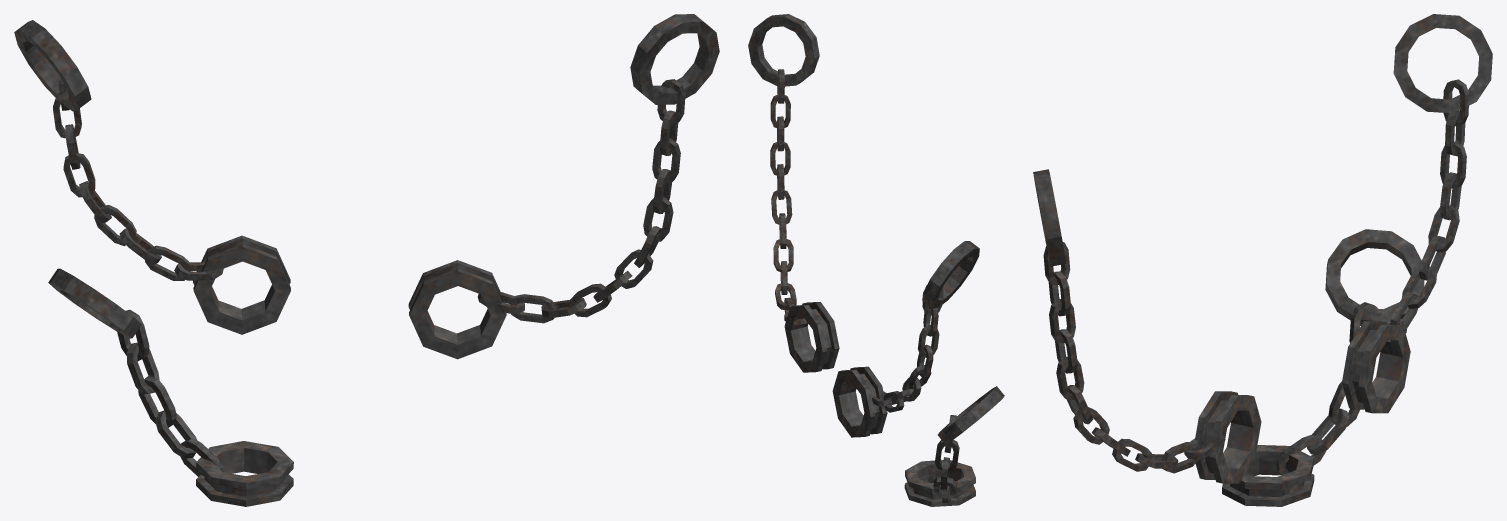
The model's file is Chains.fbx.
The picture shows the model from 3 angles, left to right: view 1: azimuth 30°, elevation 25°; view 2: azimuth 150°, elevation 25°; view 3: azimuth 270°, elevation 25°; orthographic projection. The views are drawn at different scales.
Visible parts, largest first — view 1: Cylinder.031, Cylinder.002, Cylinder.003, Cylinder.030, Cube.017, Cylinder.004, Cube.016, Cube.015, Cube.014, Cylinder.028, Cube.012, Cube.013; view 2: Cylinder.031, Cylinder.002, Cylinder.030, Cylinder.003, Cube.016, Cylinder.004, Cube.017, Cylinder.028, Cube.014, Cube.015, Cube.013, Cube.012; view 3: Cylinder.002, Cylinder.031, Cylinder.003, Cylinder.004, Cube.017, Cylinder.028, Cube.016, Cube.014, Cube.015, Cylinder.030, Cube.012, Cube.013.
Part boxes in pixels (left/top/right/bottom): Cylinder.031: left=408, top=260, right=506, bottom=359; Cylinder.002: left=193, top=235, right=290, bottom=334; Cylinder.003: left=196, top=441, right=293, bottom=506; Cylinder.030: left=630, top=14, right=719, bottom=104; Cube.017: left=510, top=79, right=685, bottom=323; Cylinder.004: left=14, top=20, right=91, bottom=111; Cube.016: left=477, top=110, right=678, bottom=318; Cube.015: left=53, top=98, right=190, bottom=280; Cube.014: left=58, top=74, right=223, bottom=280; Cylinder.028: left=48, top=268, right=141, bottom=338; Cube.012: left=117, top=309, right=223, bottom=476; Cube.013: left=126, top=342, right=197, bottom=458; Cylinder.031: left=784, top=302, right=839, bottom=372; Cylinder.002: left=832, top=366, right=887, bottom=437; Cylinder.030: left=748, top=14, right=819, bottom=86; Cylinder.003: left=904, top=460, right=975, bottom=506; Cube.016: left=770, top=94, right=807, bottom=324; Cylinder.004: left=922, top=241, right=979, bottom=308; Cube.017: left=777, top=69, right=794, bottom=312; Cylinder.028: left=938, top=386, right=1004, bottom=444; Cube.014: left=871, top=285, right=943, bottom=406; Cube.015: left=883, top=306, right=938, bottom=412; Cube.013: left=933, top=439, right=959, bottom=495; Cube.012: left=940, top=415, right=956, bottom=504; Cylinder.002: left=1342, top=321, right=1410, bottom=413; Cylinder.031: left=1195, top=391, right=1261, bottom=483; Cylinder.003: left=1222, top=445, right=1314, bottom=506; Cylinder.004: left=1393, top=14, right=1492, bottom=112; Cube.017: left=1043, top=242, right=1200, bottom=473; Cylinder.028: left=1325, top=229, right=1424, bottom=325; Cube.016: left=1048, top=271, right=1225, bottom=469; Cube.014: left=1385, top=79, right=1469, bottom=341; Cube.015: left=1390, top=110, right=1465, bottom=327; Cylinder.030: left=1033, top=169, right=1066, bottom=266; Cube.012: left=1276, top=302, right=1377, bottom=474; Cube.013: left=1307, top=408, right=1349, bottom=454.
Size of the model in its own units: 2.13 by 1.96 by 1.74.
